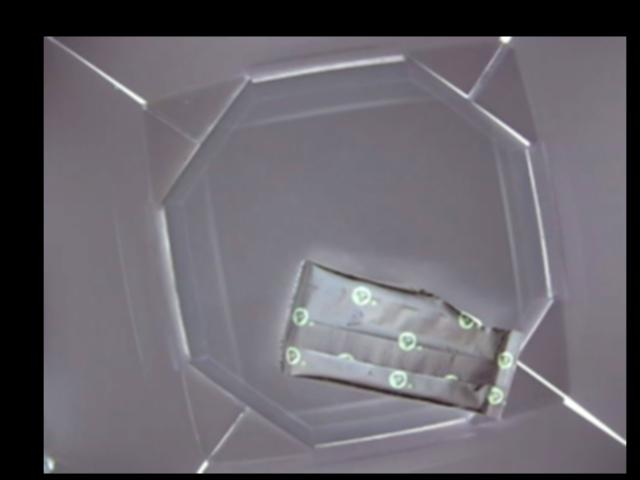Medicine: (279, 261, 524, 420)
